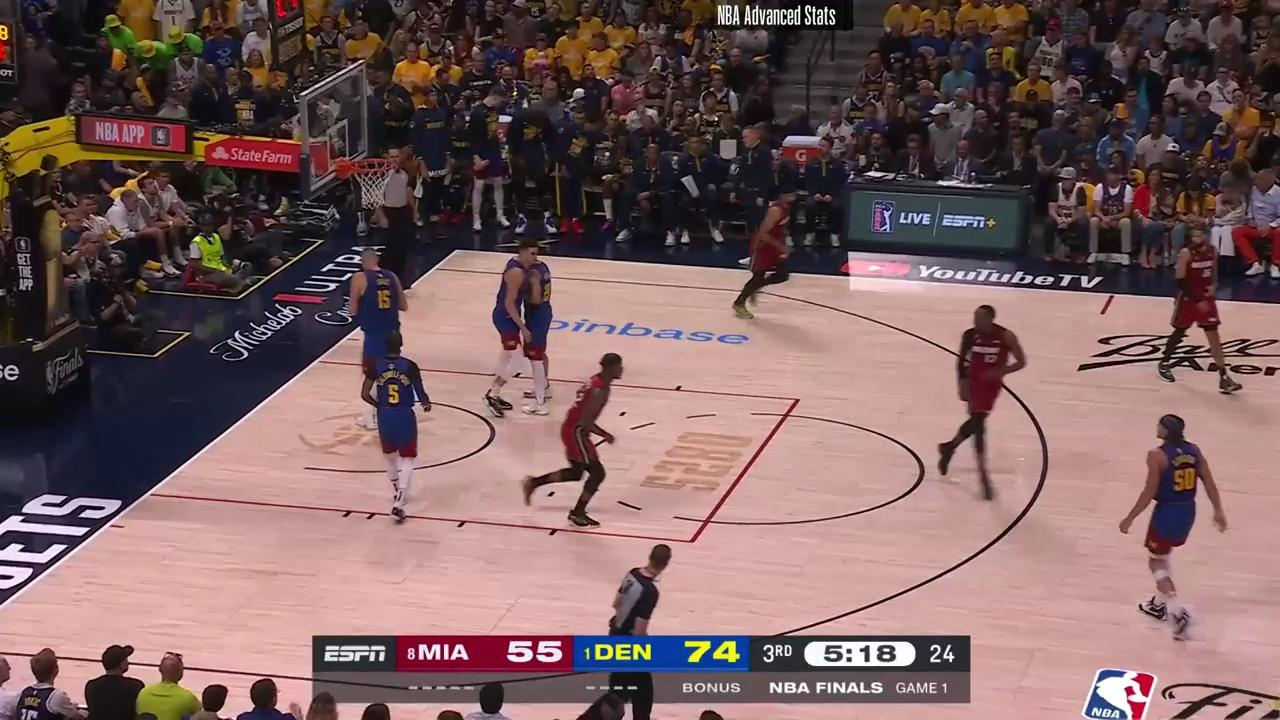Backboard: (307, 75, 366, 187)
Basket: (351, 155, 398, 215)
Person: (1121, 410, 1228, 646), (928, 302, 1042, 501), (513, 343, 628, 529), (1153, 217, 1242, 400), (363, 326, 436, 514), (722, 185, 812, 320), (471, 235, 533, 416), (343, 246, 414, 375), (523, 239, 555, 423)
Referee: (367, 153, 422, 276), (607, 540, 677, 632)
Shot Clock: (267, 0, 309, 69), (0, 20, 30, 106)
